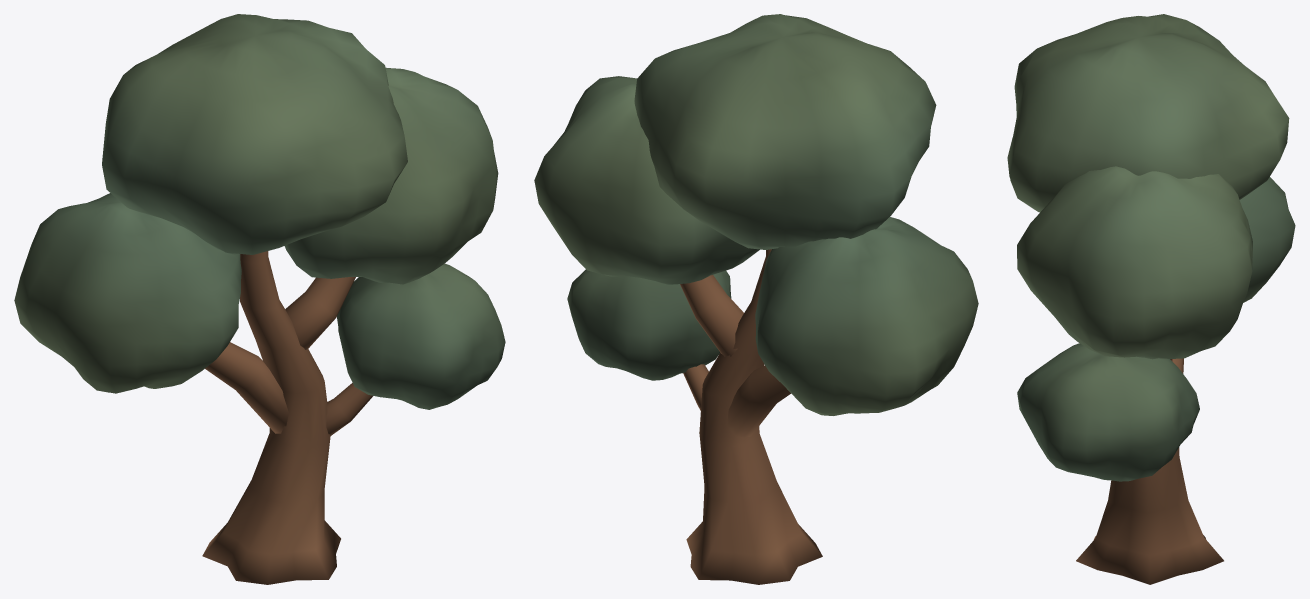
Rendered from clearing-tree.glb.
3 views of the same model, side by side, from view 1: azimuth 30°, elevation 25°; view 2: azimuth 150°, elevation 25°; view 3: azimuth 270°, elevation 25° (orthographic). The views are drawn at different scales.
Visible parts, largest first — view 1: clearing-tree; view 2: clearing-tree; view 3: clearing-tree.
Part boxes in pixels (box(x1,y1,x2,y2)): clearing-tree: box(14, 14, 505, 584); clearing-tree: box(534, 14, 978, 584); clearing-tree: box(1007, 14, 1295, 584).
Bounding box in the file's own units: 2.5 × 3 × 1.55.
